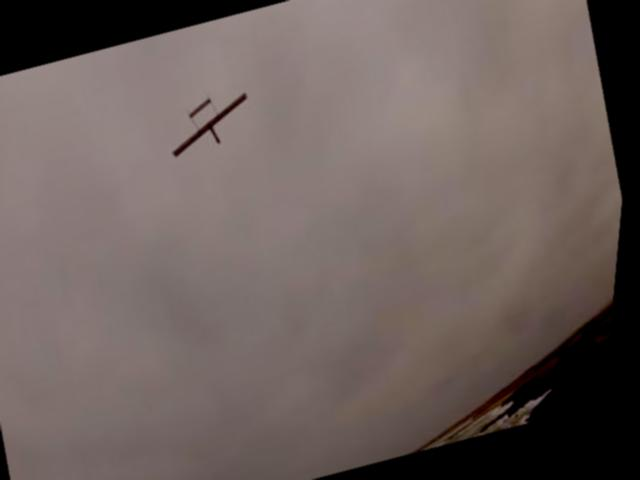uav: (155, 78, 268, 170)
